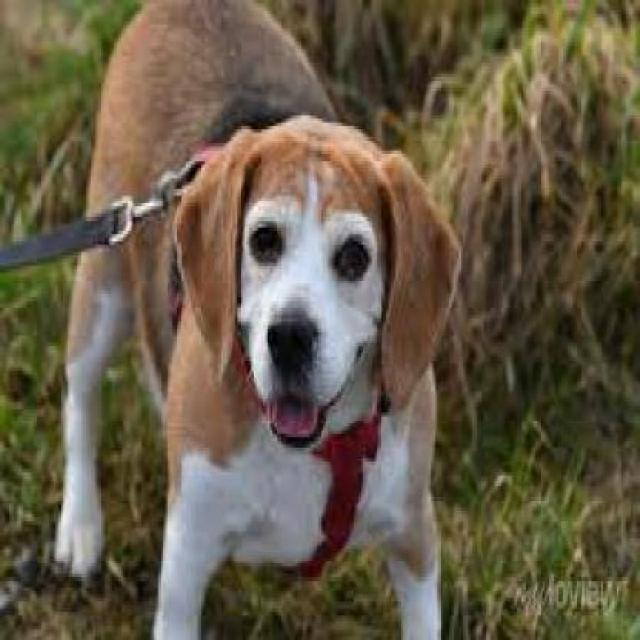Dog: (54, 3, 463, 637)
